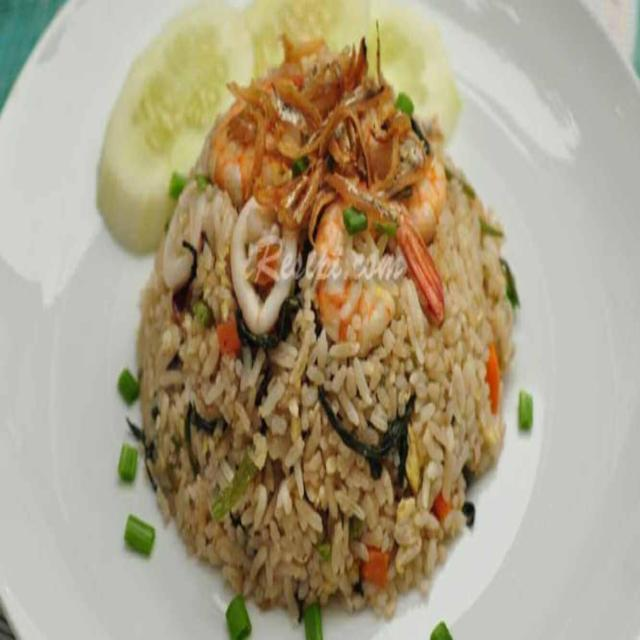Nasi Goreng: (125, 19, 519, 627)
